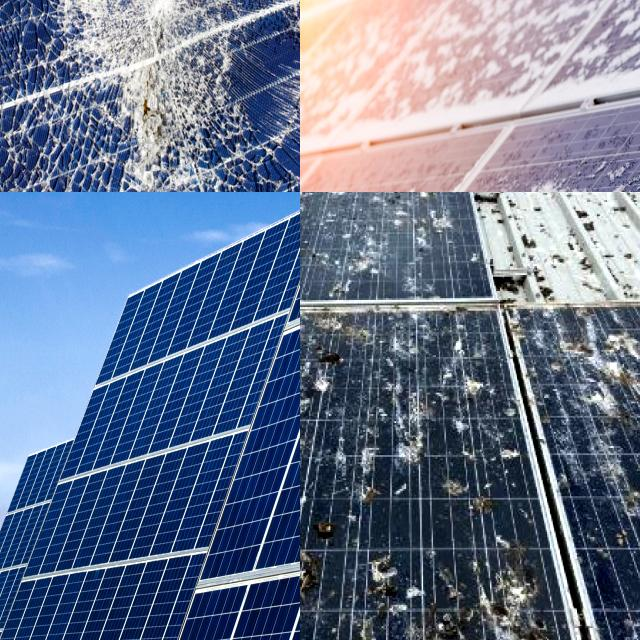bird: (448, 573, 550, 629), (582, 326, 640, 413), (300, 334, 356, 402), (370, 554, 416, 628), (300, 545, 333, 636), (444, 342, 504, 389), (390, 416, 432, 478), (301, 482, 341, 546), (438, 472, 491, 520), (598, 489, 640, 548), (300, 318, 325, 387), (300, 408, 325, 474), (300, 553, 332, 603), (486, 438, 526, 476), (300, 557, 325, 616)
crack: (111, 276, 300, 640)
hotspot: (49, 0, 225, 192), (274, 105, 300, 192)
panel: (398, 1, 500, 100), (300, 22, 380, 115), (513, 20, 602, 100), (519, 0, 611, 26), (615, 26, 640, 68)
